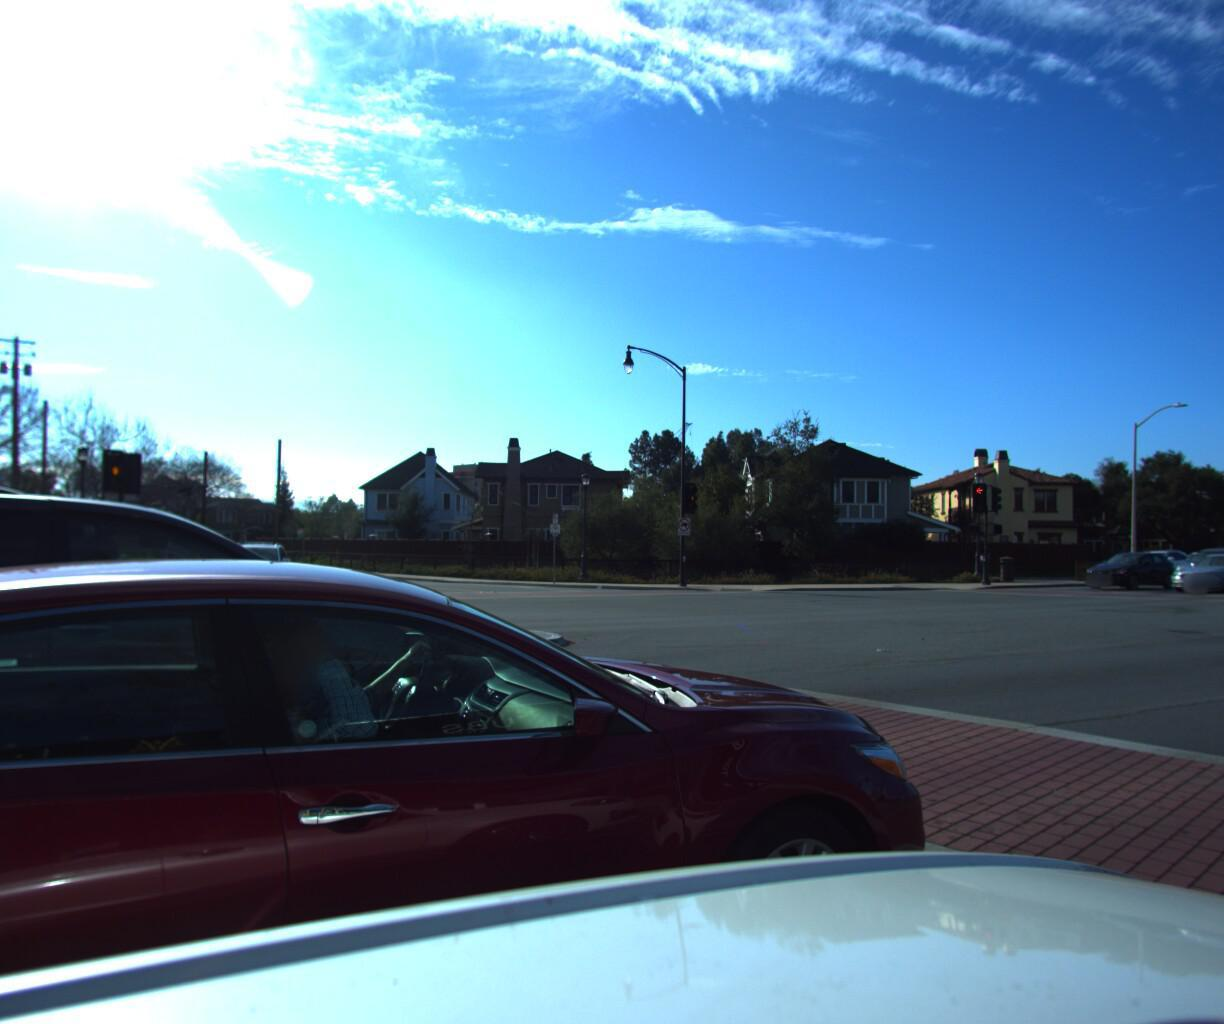car: (206, 539, 302, 596), (1072, 546, 1181, 588), (1103, 542, 1198, 583), (1155, 545, 1224, 590), (1160, 539, 1224, 584)
